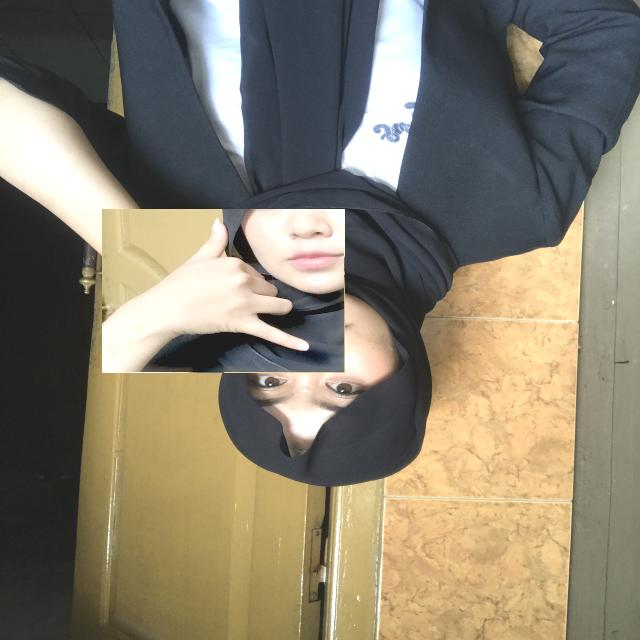telpon: (102, 209, 345, 373)
